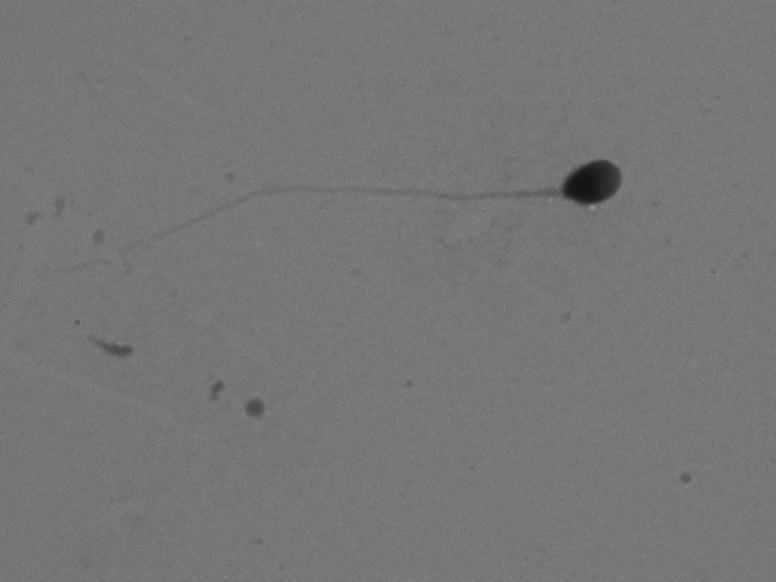Normal: (35, 145, 639, 298)
